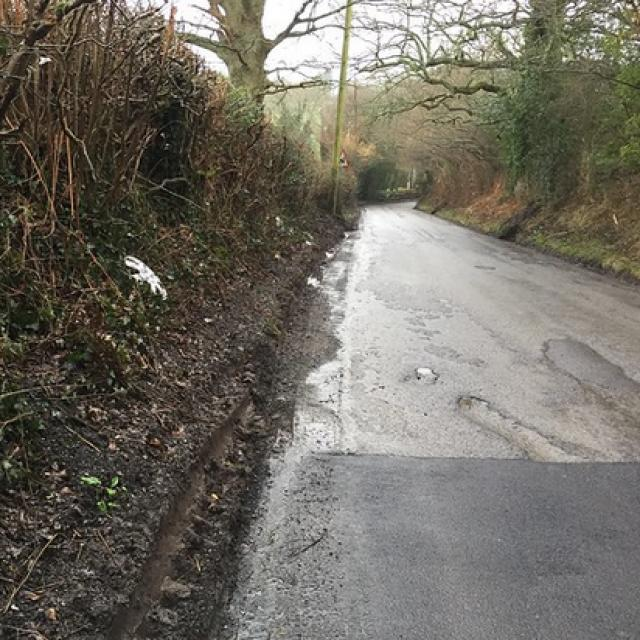Pothole: (68, 312, 449, 640)
